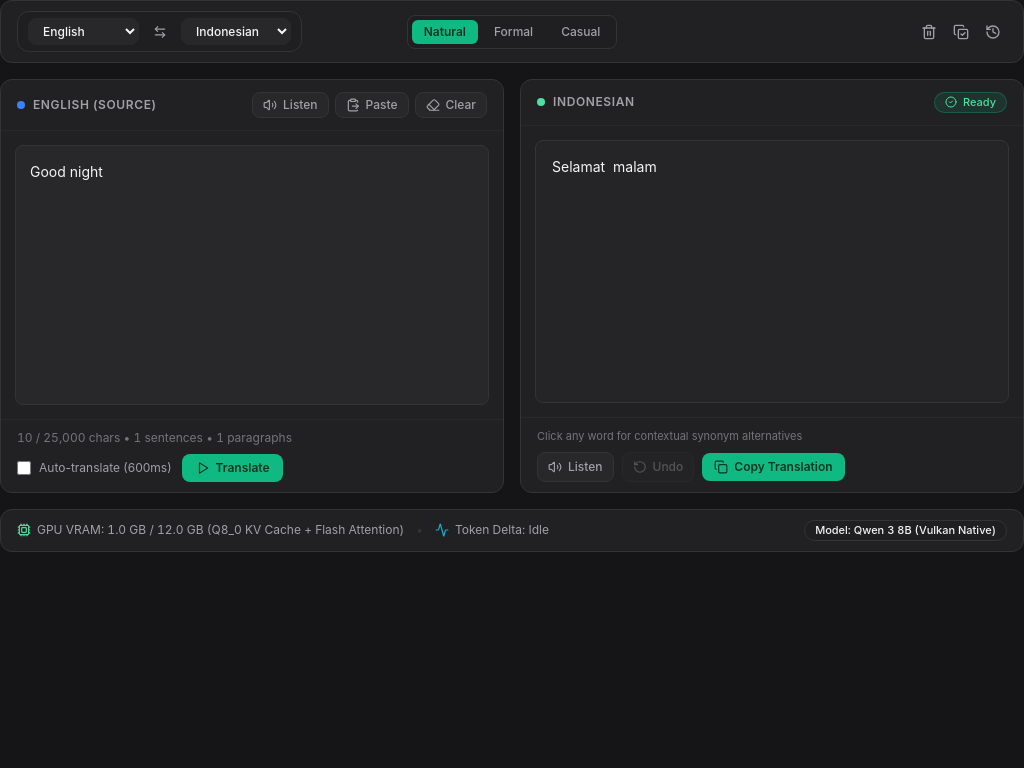
Test: TextTranslatorPage Flows › plays translation audio via window.speechSynthesis with target language and toggles to Stop
The width and height of the screenshot is (1024, 768).
Click the button with aria-label "Listen to translation". click: (575, 467)
box: [537, 452, 614, 482]
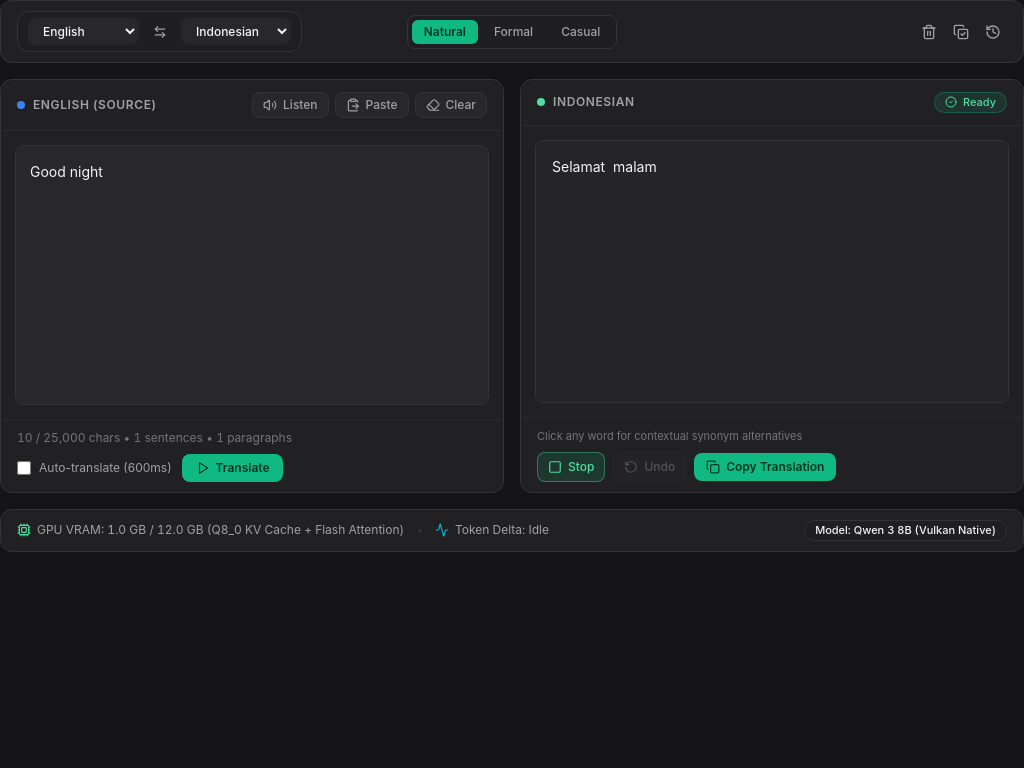
Result: the button with aria-label "Stop translation audio" is shown
Click the button with aria-label "Stop translation audio". click: (571, 467)
box: [537, 452, 605, 482]
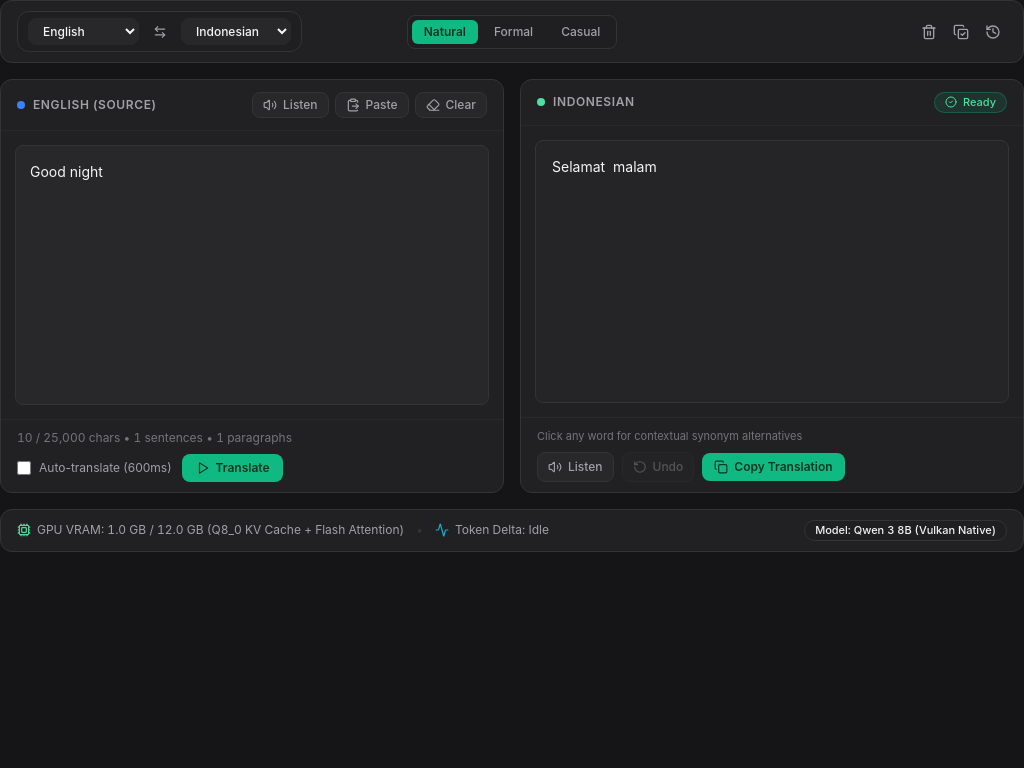
Result: the button with aria-label "Listen to translation" is shown at [537, 452, 614, 482]
